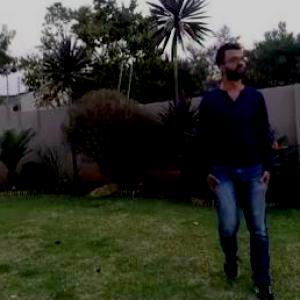follow: (190, 5, 284, 298)
